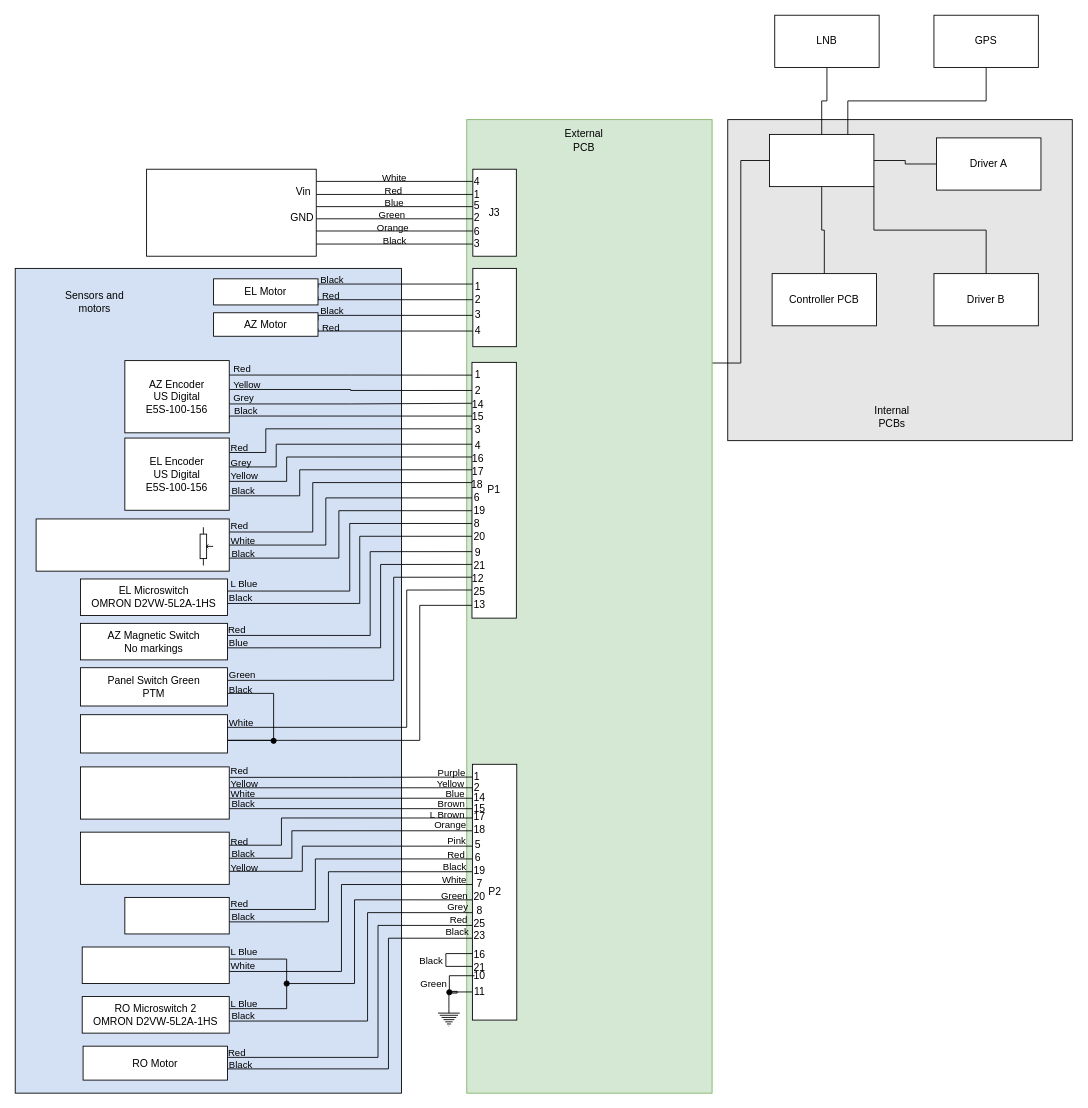
Some shapes in this 1088 by 1108 pixel diagram are drawn without their labels. Here are the shapes that lost their labels. From the top down, the box of each, then its label:
(769, 134, 874, 187): Input PCB
(146, 168, 316, 256): 7-Pin Connector
(472, 268, 516, 347): J4
(35, 518, 229, 571): AZ Potentiometer Vishay MOD 534-11 1k +-5%, Lin +-0.2%
(80, 714, 228, 753): Panel Switch Red PTM
(80, 766, 229, 819): RO Encoder
(80, 831, 229, 884): Clinometer Accustar 02114002-000
(124, 897, 229, 934): Top Sensor Unknown function
(81, 946, 229, 984): RO Microswitch 1 OMRON D2VW-5L2A-1HS
